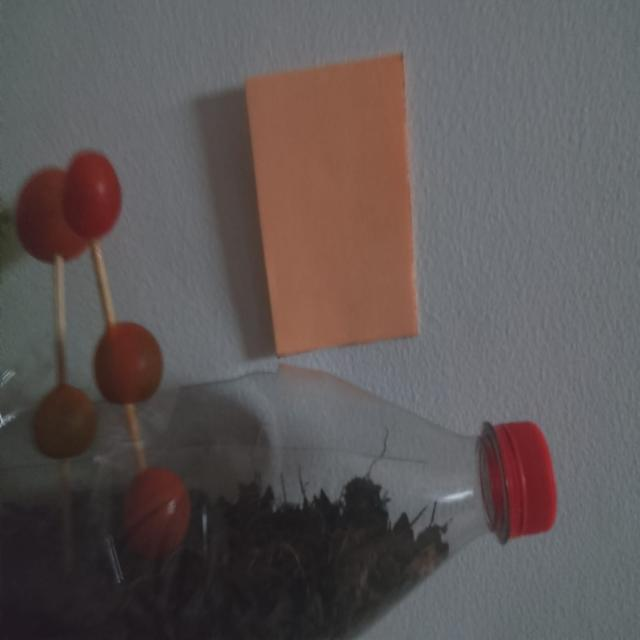card: (245, 54, 418, 356), (245, 54, 418, 355)
fruit_maturation: (123, 467, 190, 558)
fully_grown: (15, 151, 121, 262), (94, 322, 163, 404), (32, 385, 96, 459)
